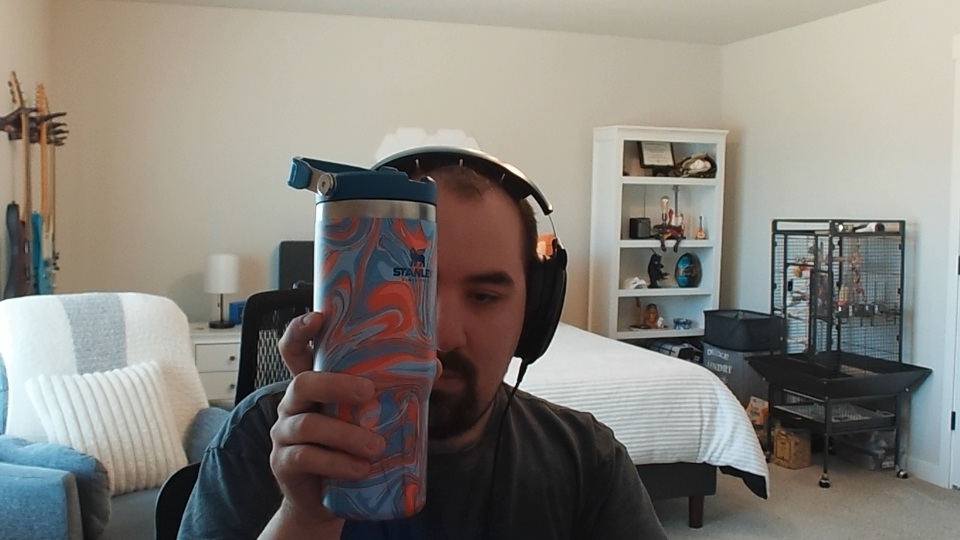StanleyCup: (286, 155, 439, 521)
